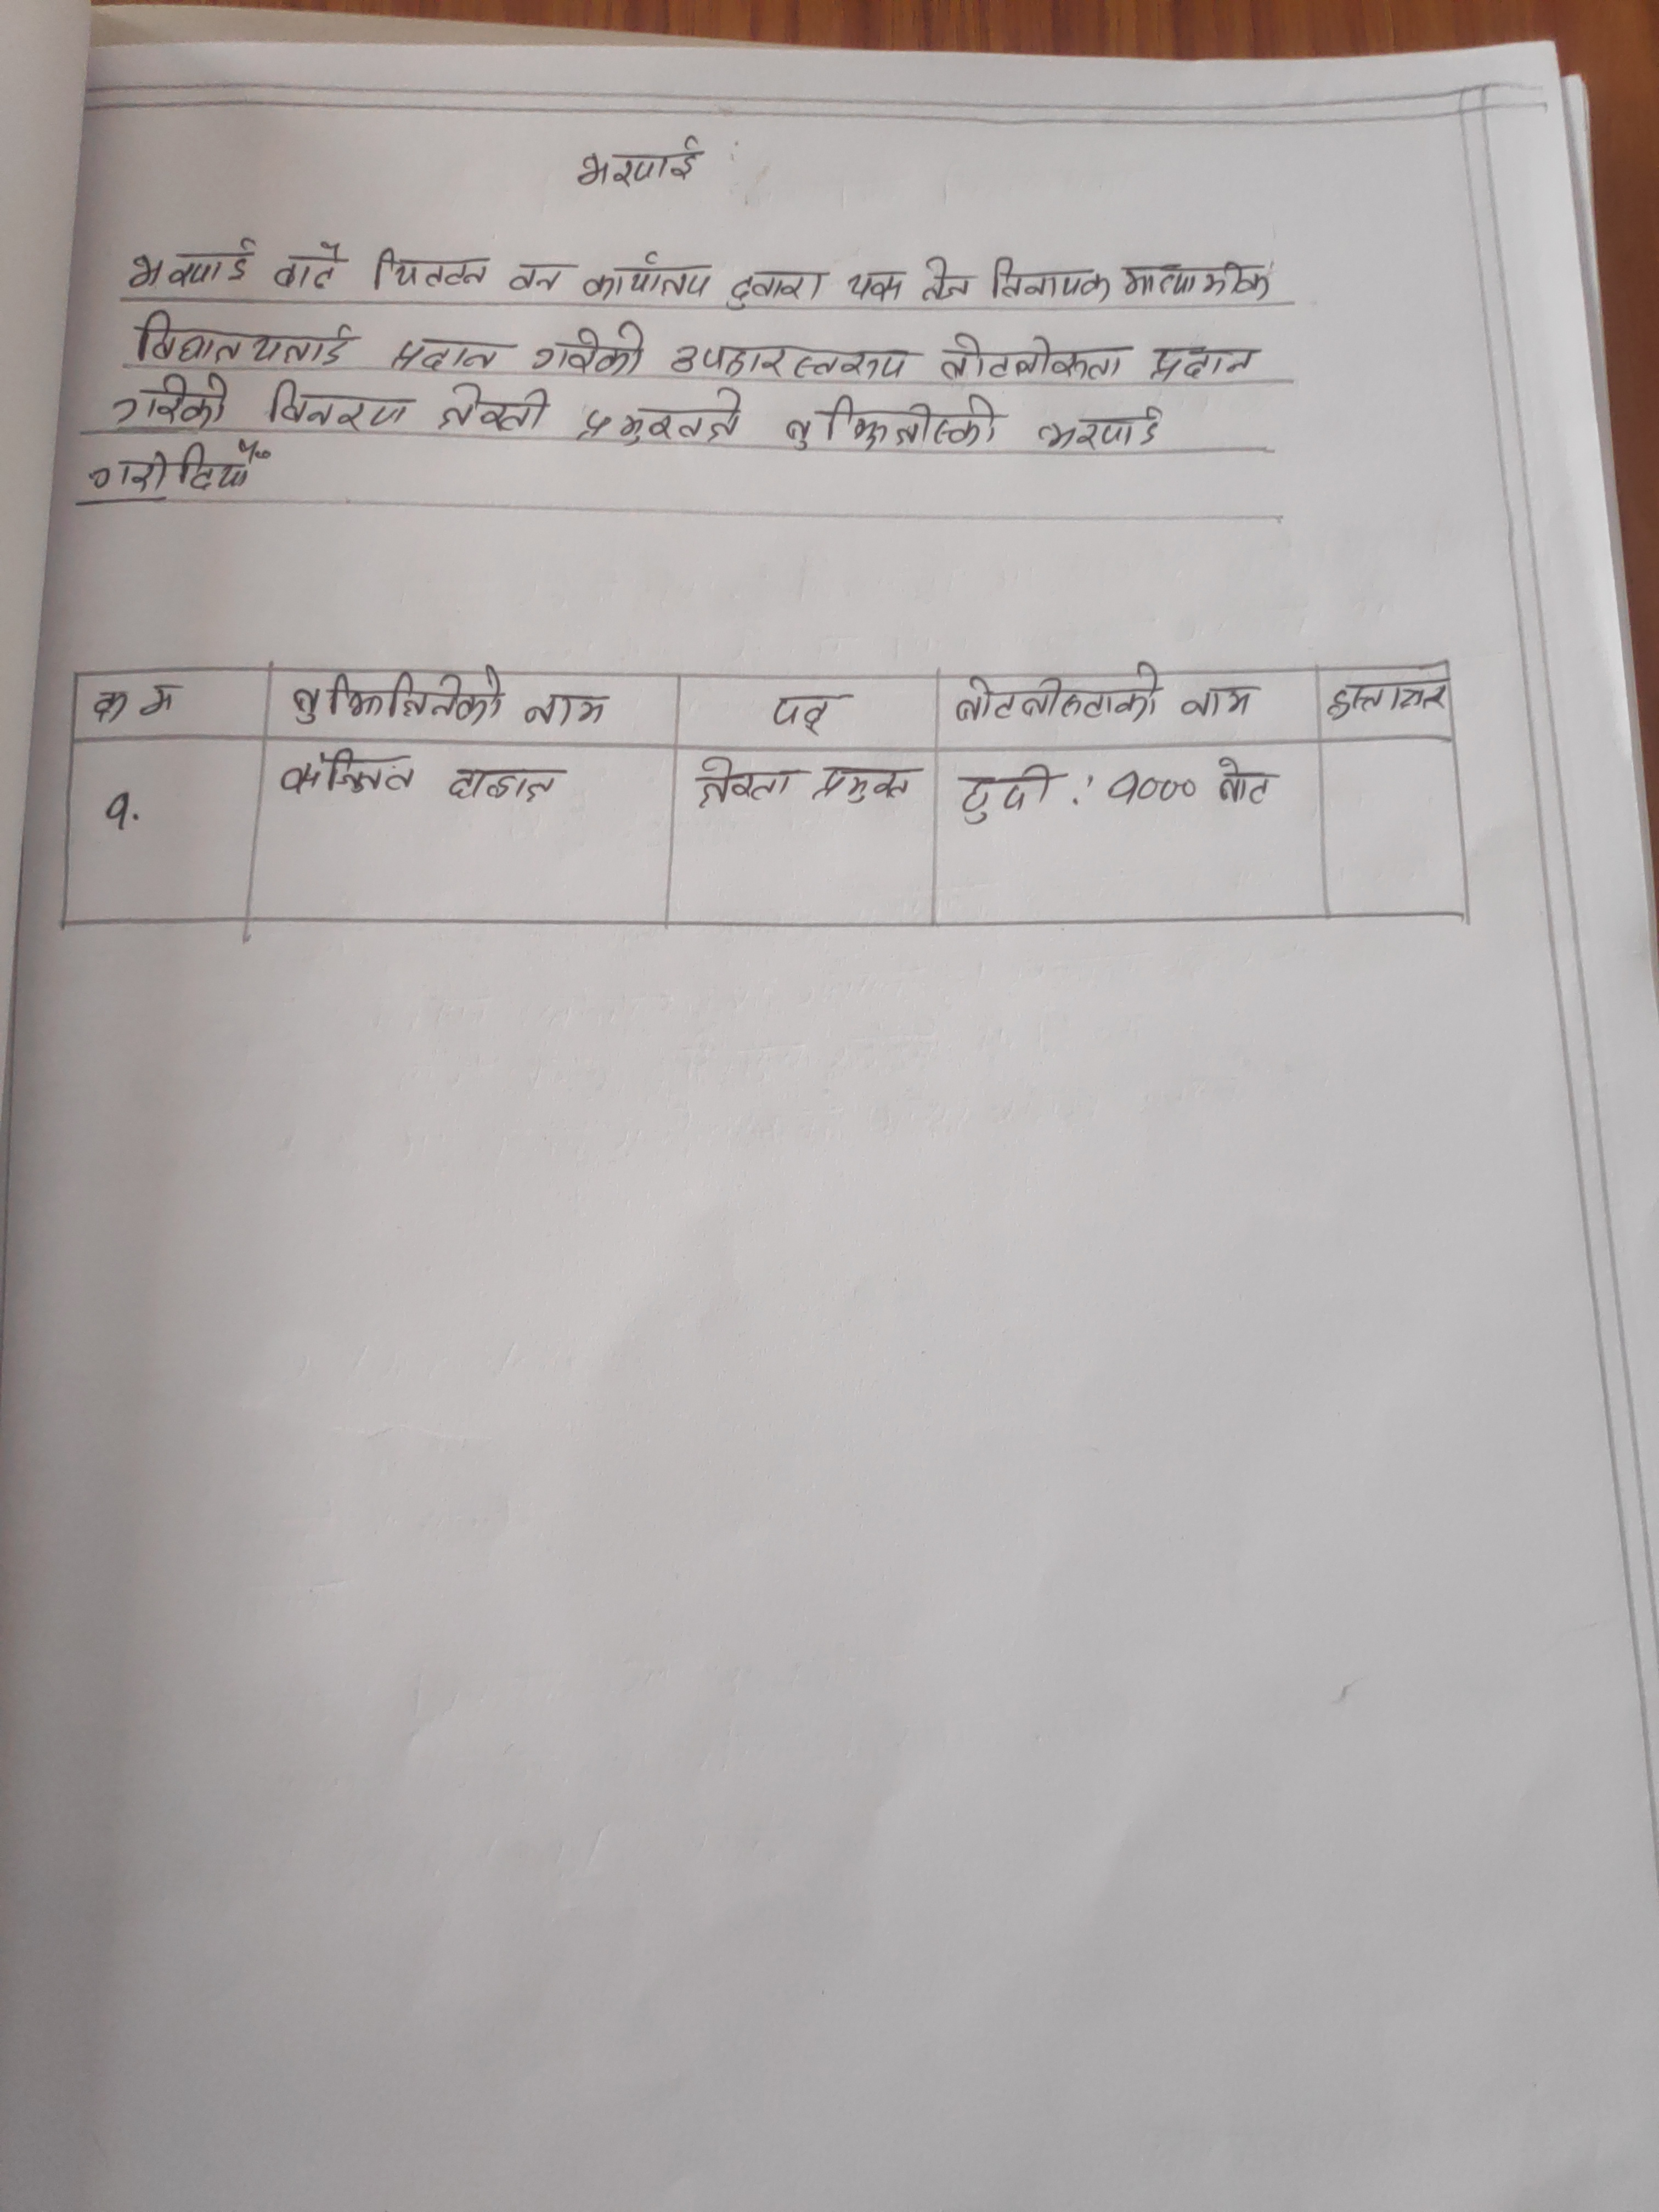text: (127, 305, 362, 371), (779, 392, 1009, 453), (946, 662, 1164, 725), (78, 435, 272, 502), (291, 669, 509, 725), (667, 340, 925, 383), (934, 329, 1134, 383), (573, 390, 753, 446), (261, 374, 416, 435), (683, 751, 812, 817), (568, 136, 714, 190), (277, 742, 423, 796), (432, 376, 556, 439), (117, 235, 263, 287), (1115, 256, 1277, 303), (112, 371, 232, 430), (986, 253, 1112, 308), (955, 759, 1061, 824), (366, 242, 497, 294), (1032, 406, 1166, 456), (586, 249, 716, 300), (521, 320, 647, 373), (1321, 679, 1452, 726), (725, 261, 833, 312), (387, 331, 519, 371), (1145, 340, 1263, 383), (444, 761, 566, 801), (521, 686, 617, 735), (812, 763, 924, 805), (765, 690, 856, 740), (82, 683, 186, 725), (1171, 678, 1267, 723), (270, 242, 350, 294), (1103, 768, 1199, 812), (1209, 754, 1277, 815), (917, 251, 979, 303), (845, 272, 910, 312), (505, 258, 575, 294), (99, 784, 152, 827)
